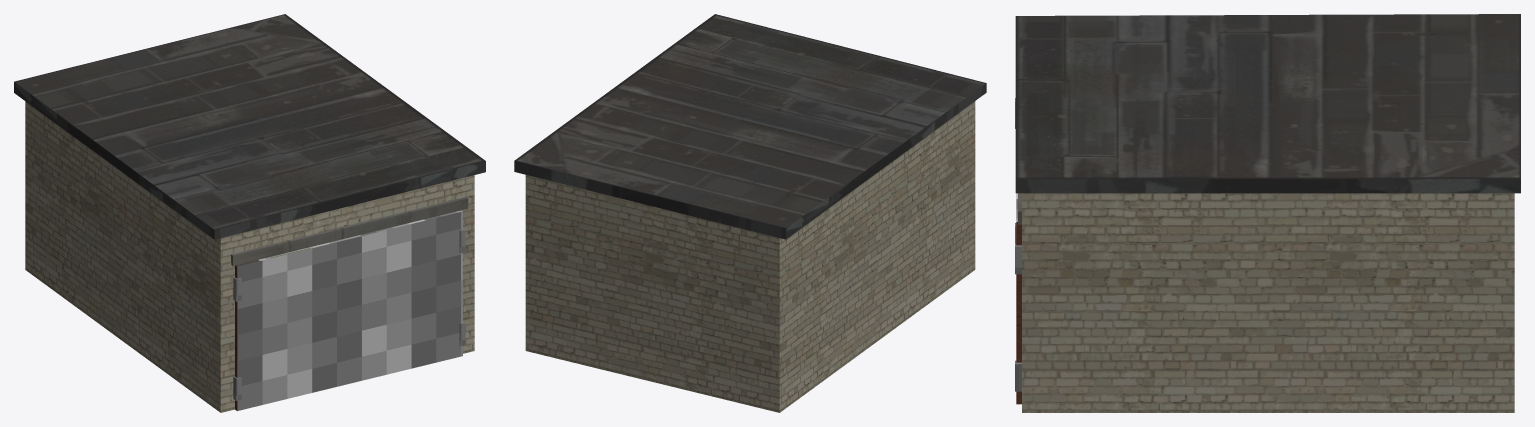
File: bz_garage_02.fbx
3 renders of one model, left to right at view 1: azimuth 30°, elevation 25°; view 2: azimuth 150°, elevation 25°; view 3: azimuth 270°, elevation 25°, orthographic. The views are drawn at different scales.
Parts seen in each view (by area): view 1: bz_garage_02; view 2: bz_garage_02; view 3: bz_garage_02.
Part boxes in pixels (box(x1,y1,x2,y2)): bz_garage_02: box(14, 14, 485, 412); bz_garage_02: box(514, 14, 986, 412); bz_garage_02: box(1015, 14, 1520, 412).
Bounding box in the file's own units: 4.81 × 3.22 × 6.17.
